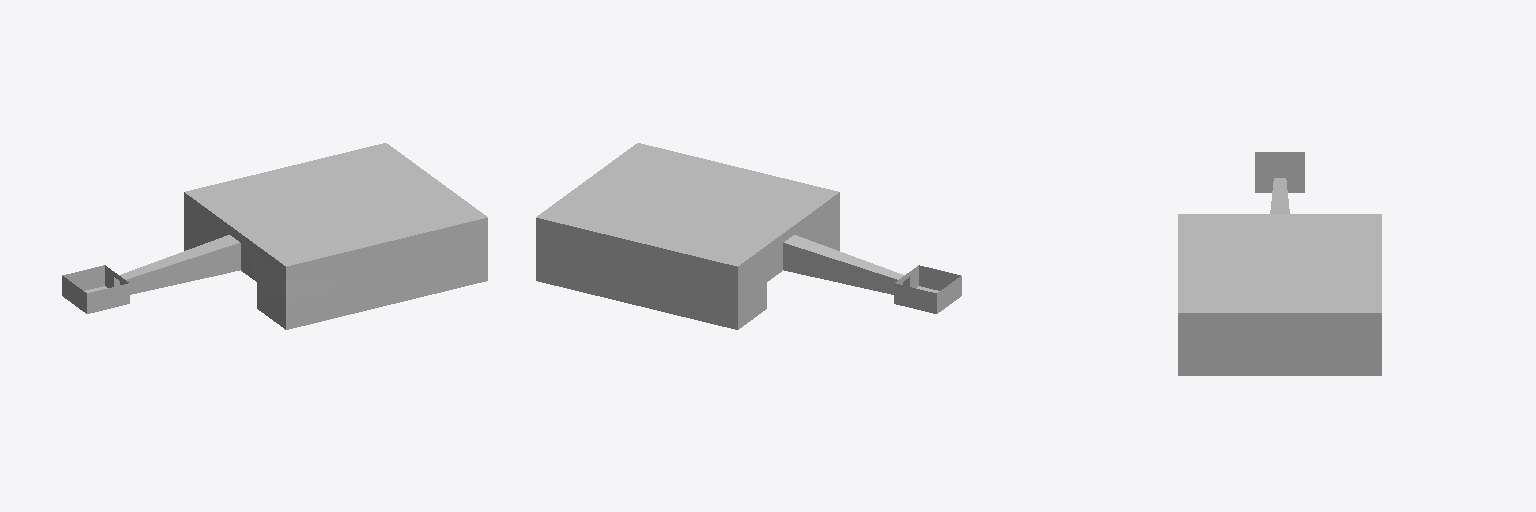
File: level1test1.obj
3 views of the same model, side by side, from view 1: azimuth 30°, elevation 25°; view 2: azimuth 150°, elevation 25°; view 3: azimuth 270°, elevation 25° (orthographic).
Parts seen in each view (by area): view 1: Plane; view 2: Plane; view 3: Plane.
Boxes of the visible parts, x1=… form: Plane: x1=62, y1=143, x2=487, y2=329; Plane: x1=536, y1=143, x2=961, y2=329; Plane: x1=1178, y1=152, x2=1381, y2=375.
Size of the model in its own units: 28.69 by 4.8 by 14.01.